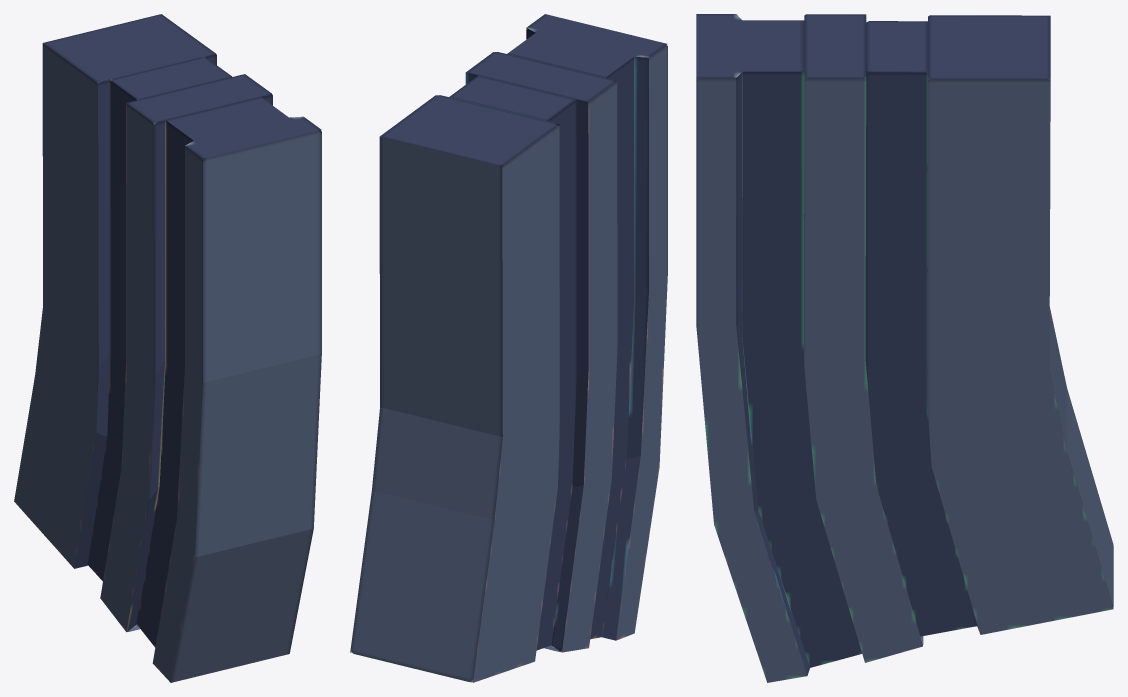
The model's file is mag.obj.
3 views of the same model, side by side, from view 1: azimuth 30°, elevation 25°; view 2: azimuth 150°, elevation 25°; view 3: azimuth 270°, elevation 25° (orthographic). The views are drawn at different scales.
Visible parts, largest first — view 1: cuboid; view 2: cuboid; view 3: cuboid.
Boxes of the visible parts, left/top/right/bottom form: cuboid: left=14, top=14, right=321, bottom=682; cuboid: left=350, top=14, right=667, bottom=682; cuboid: left=696, top=14, right=1113, bottom=682.
Bounding box in the file's own units: 0.125 × 0.55 × 0.3439.
1 material, 1 textured.
